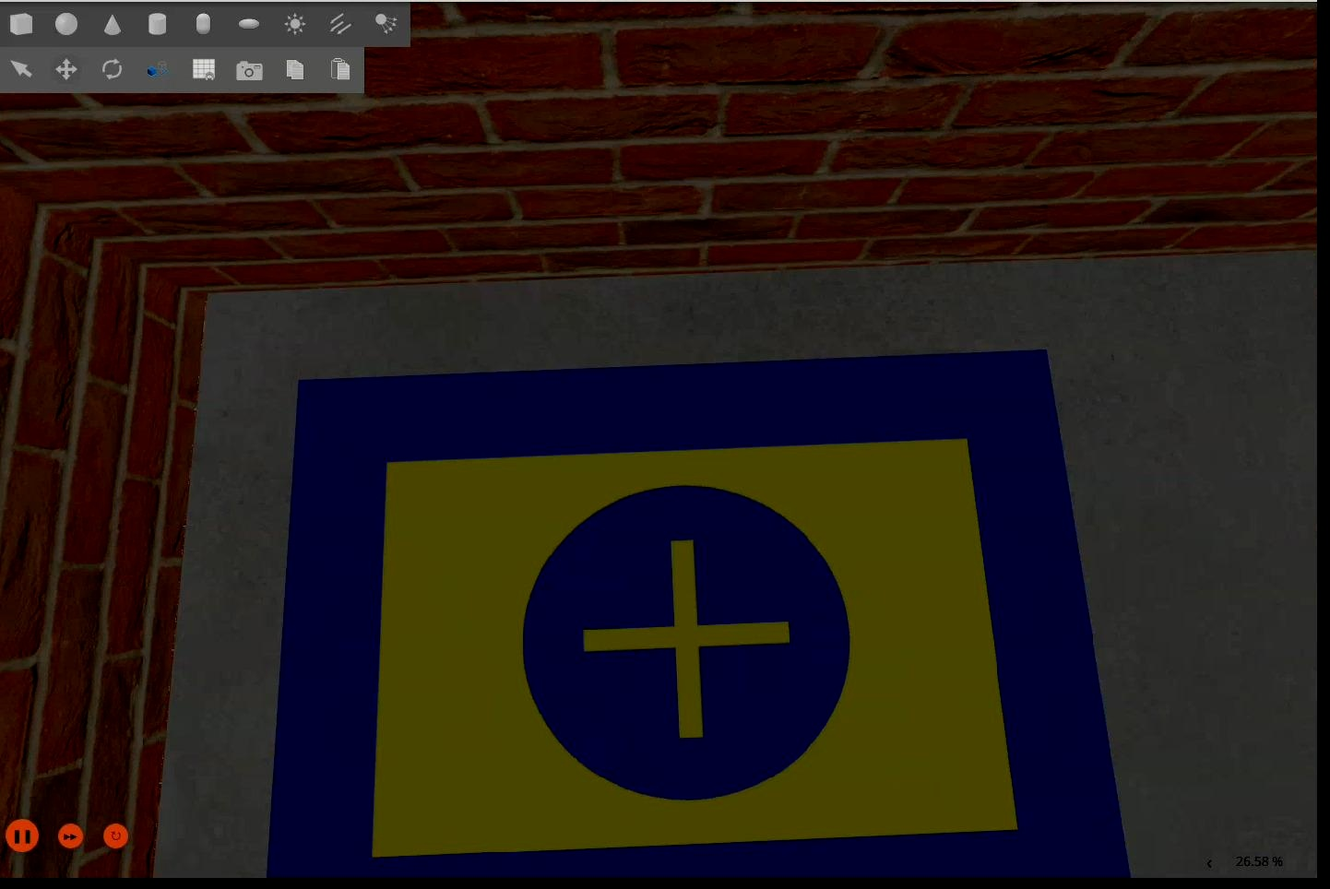large_base: (268, 350, 1132, 879)
